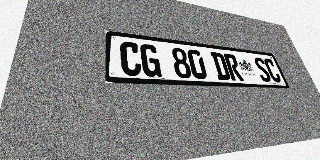0: (186, 49, 208, 79)
8: (170, 47, 192, 79)
C: (120, 41, 142, 76), (263, 58, 282, 83)
D: (210, 52, 231, 80)
G: (140, 43, 162, 77)
R: (223, 53, 244, 81)
S: (252, 57, 273, 82)
